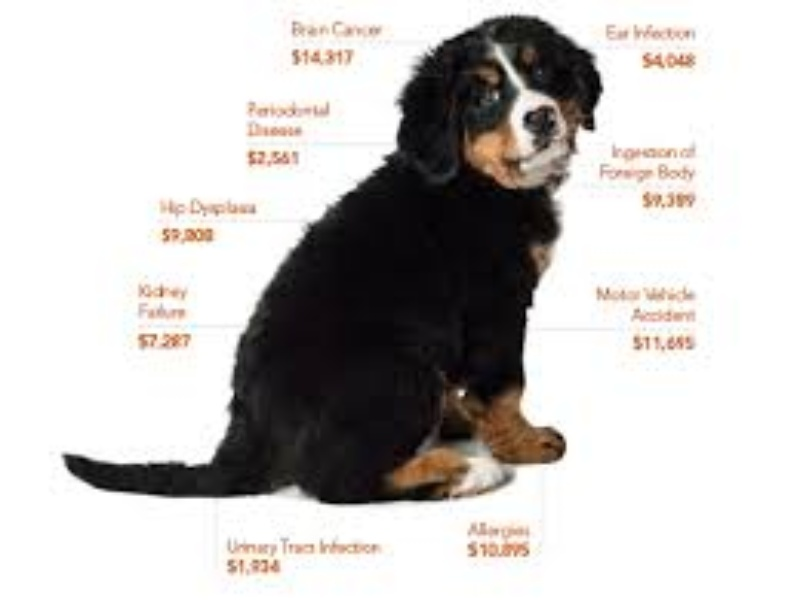dog: (67, 11, 606, 510)
